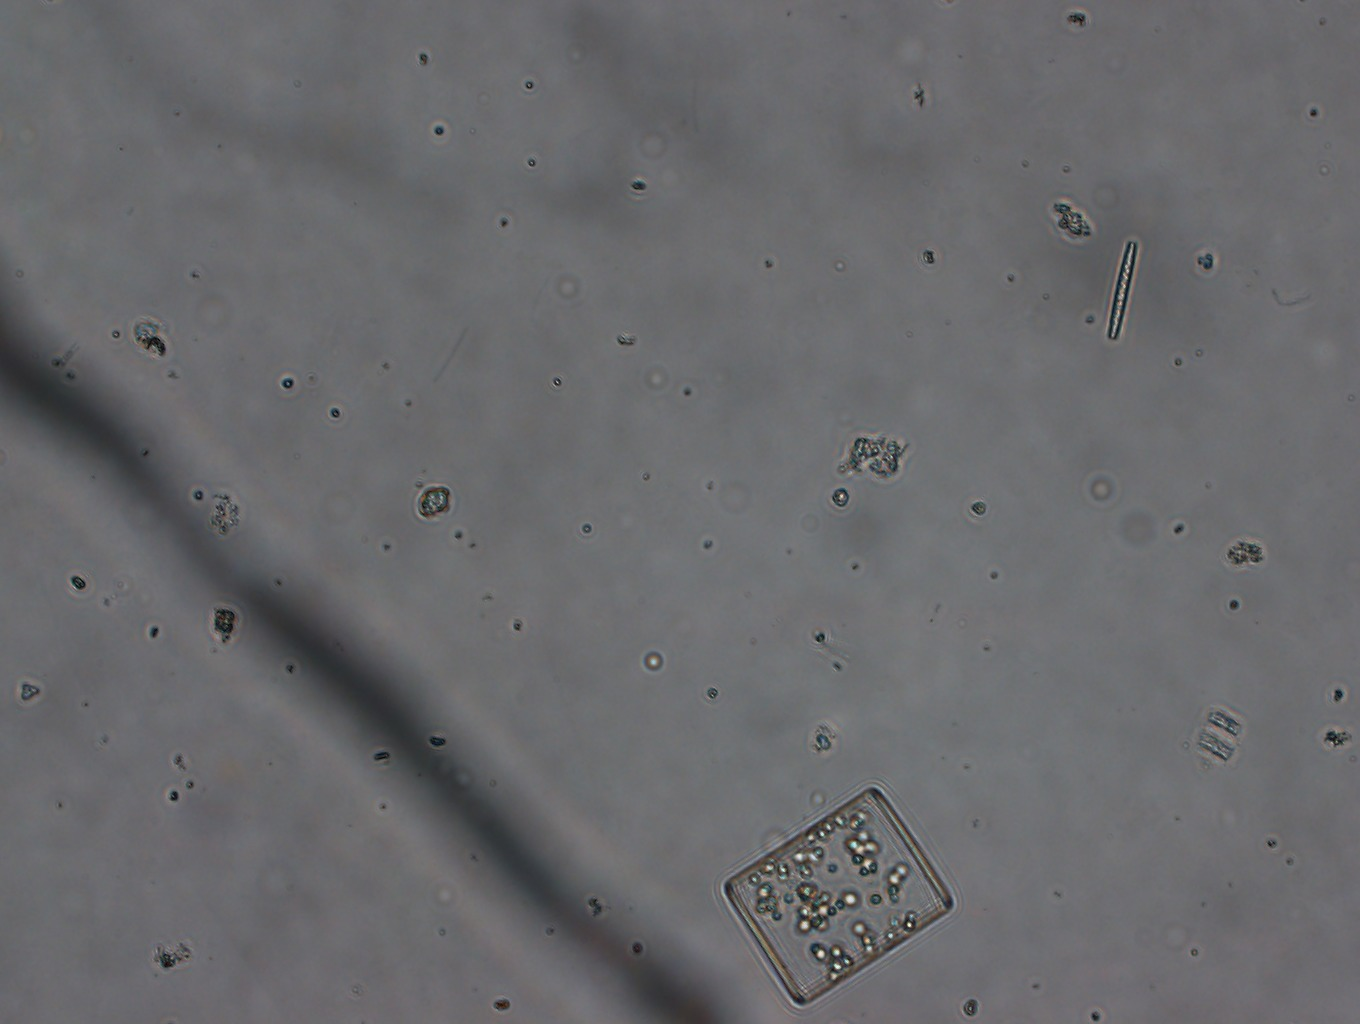guinardia flaccida: (714, 774, 958, 1018)
